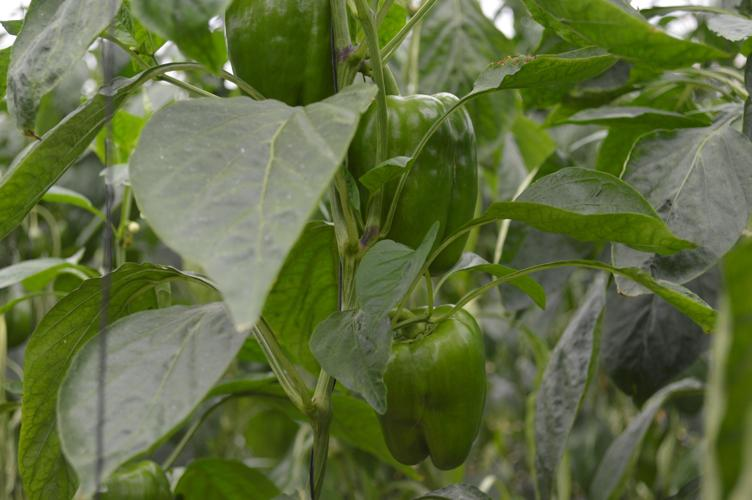BellPepper: (348, 89, 481, 274), (366, 302, 487, 470), (226, 6, 338, 104)
